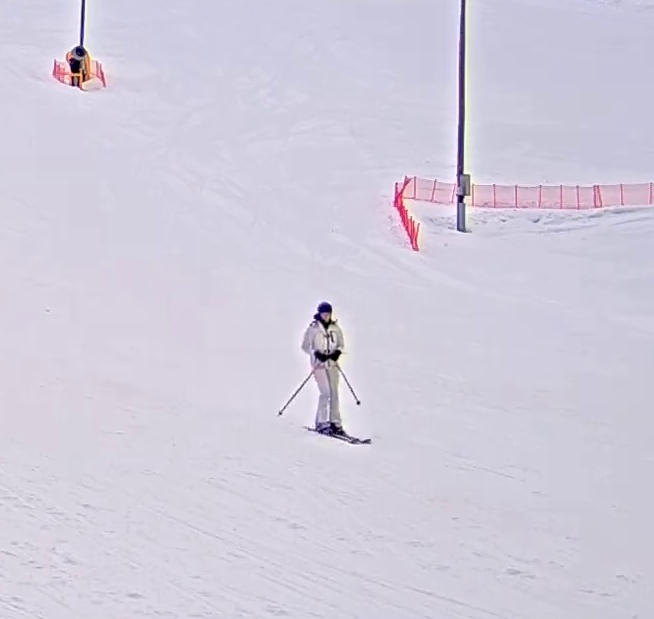skier: (273, 295, 375, 448)
